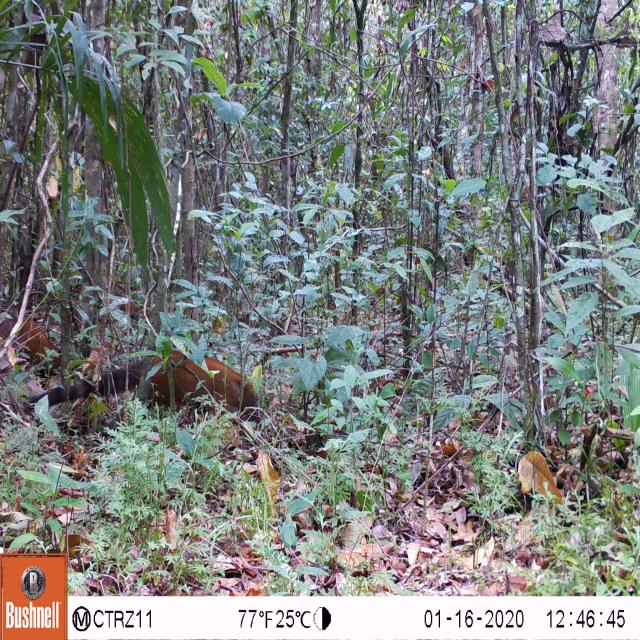South American Coati: (28, 346, 273, 437), (2, 296, 65, 390)
